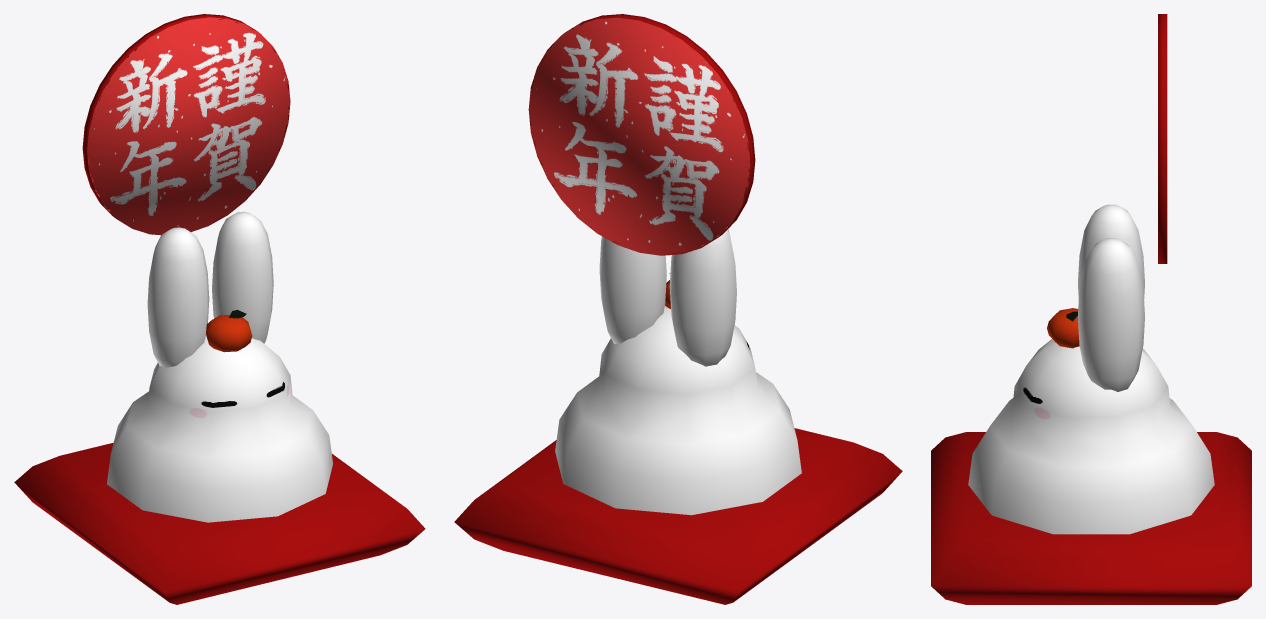
Rendered from mikan.obj.
3 renders of one model, left to right at view 1: azimuth 30°, elevation 25°; view 2: azimuth 150°, elevation 25°; view 3: azimuth 270°, elevation 25°, orthographic. The views are drawn at different scales.
Visible parts, largest first — view 1: Circle.001, Circle.004, Circle, Circle.005, Circle.002; view 2: Circle.001, Circle, Circle.004, Circle.005; view 3: Circle.004, Circle, Circle.005, Circle.001, Circle.002.
Boxes of the visible parts, x1,y1,x2,y2 form: Circle.001: (82,14,290,235); Circle.004: (107,335,332,522); Circle: (14,442,425,604); Circle.005: (147,211,273,367); Circle.002: (206,315,252,352); Circle.001: (528,14,755,255); Circle: (454,428,902,604); Circle.004: (555,306,801,515); Circle.005: (599,229,736,366); Circle.004: (968,339,1214,534); Circle: (931,432,1251,604); Circle.005: (1078,204,1144,391); Circle.001: (1158,14,1167,263); Circle.002: (1047,308,1079,348).
Bounding box in the file's own units: 0.3298 × 0.5972 × 0.3298.
Materials: 6 (2 with a texture image).
